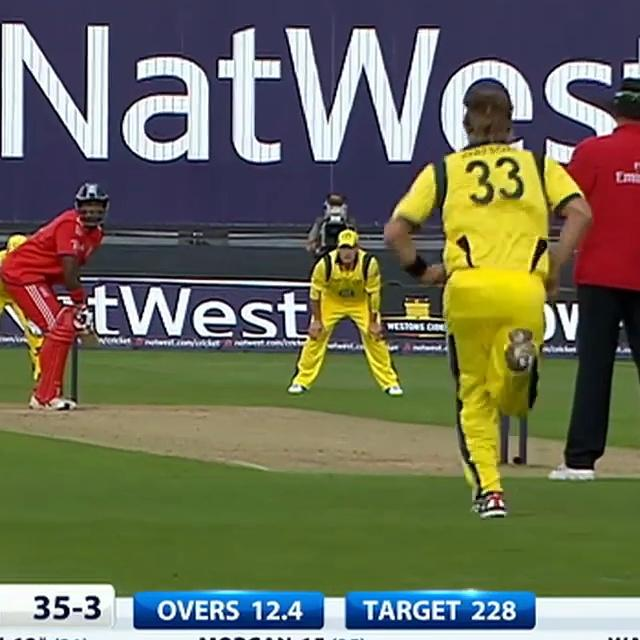umpire: (536, 69, 640, 482)
